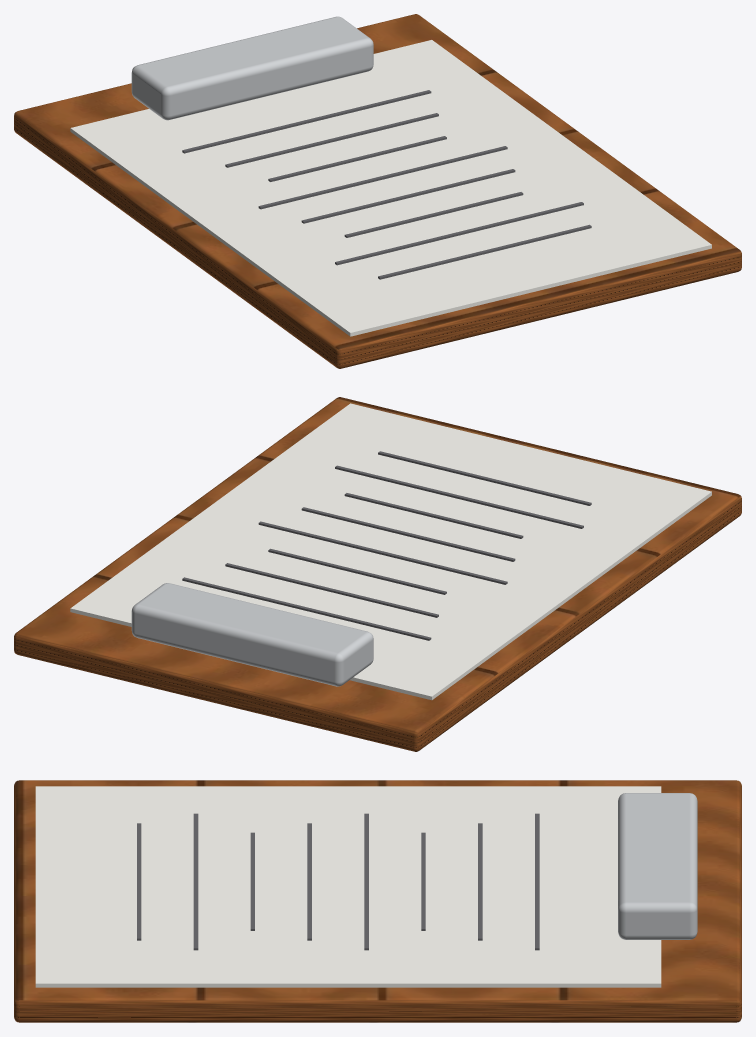
The model's file is prison-complex-builder-clipboard-e9eb9aba__25712.glb.
The picture shows the model from 3 angles, top to bottom: view 1: azimuth 30°, elevation 25°; view 2: azimuth 150°, elevation 25°; view 3: azimuth 270°, elevation 25°; orthographic projection. The views are drawn at different scales.
Visible parts, largest first — view 1: clipboard; view 2: clipboard; view 3: clipboard.
Part boxes in pixels (left/top/right/bottom): clipboard: left=14, top=14, right=741, bottom=368; clipboard: left=14, top=397, right=741, bottom=751; clipboard: left=14, top=780, right=741, bottom=1022.
Bounding box in the file's own units: 0.23 × 0.032 × 0.32.
4 materials, 1 textured.
